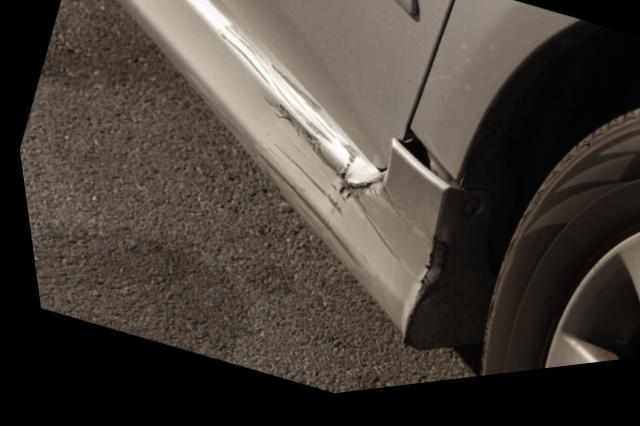scratch: (209, 27, 425, 291)
